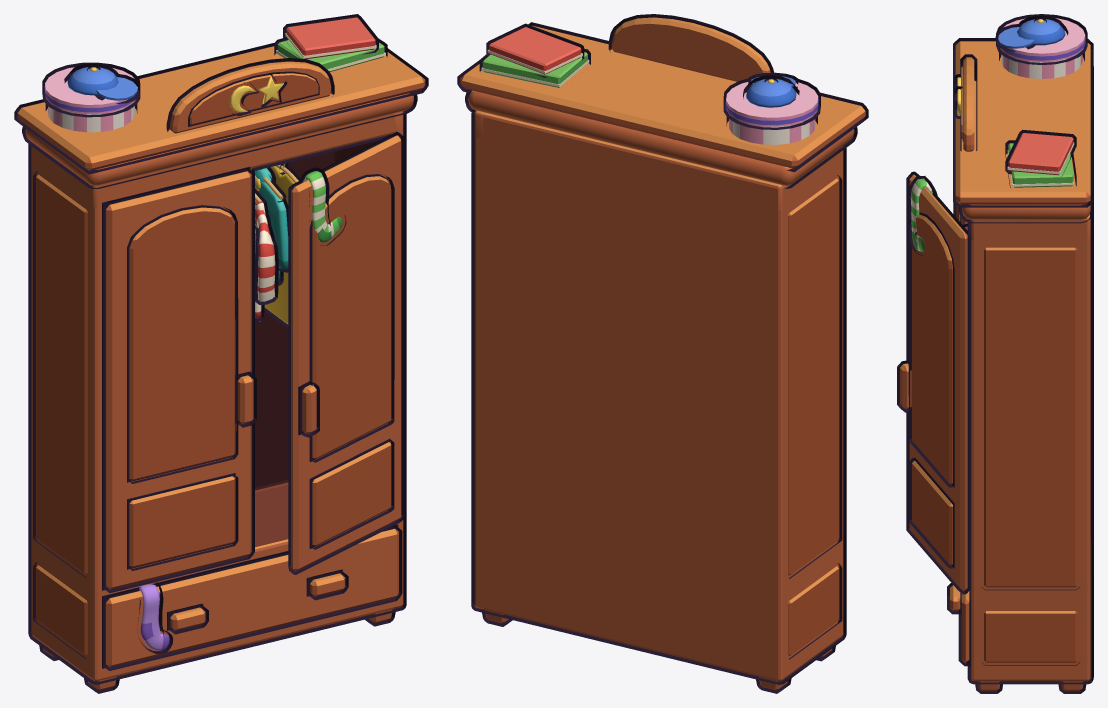
Rendered from Wardrobe.glb.
3 renders of one model, left to right at view 1: azimuth 30°, elevation 25°; view 2: azimuth 150°, elevation 25°; view 3: azimuth 270°, elevation 25°, orthographic. The views are drawn at different scales.
Parts seen in each view (by area): view 1: Wardrobe, Wardrobe_Outline; view 2: Wardrobe, Wardrobe_Outline; view 3: Wardrobe, Wardrobe_Outline.
Part boxes in pixels (left/top/right/bottom): Wardrobe: left=17, top=17, right=425, bottom=690; Wardrobe_Outline: left=14, top=14, right=428, bottom=693; Wardrobe: left=460, top=17, right=865, bottom=690; Wardrobe_Outline: left=457, top=14, right=868, bottom=693; Wardrobe: left=900, top=18, right=1090, bottom=690; Wardrobe_Outline: left=897, top=14, right=1093, bottom=693.
Size of the model in its own units: 18.28 by 30.31 by 9.7.
1 material, 1 textured.
